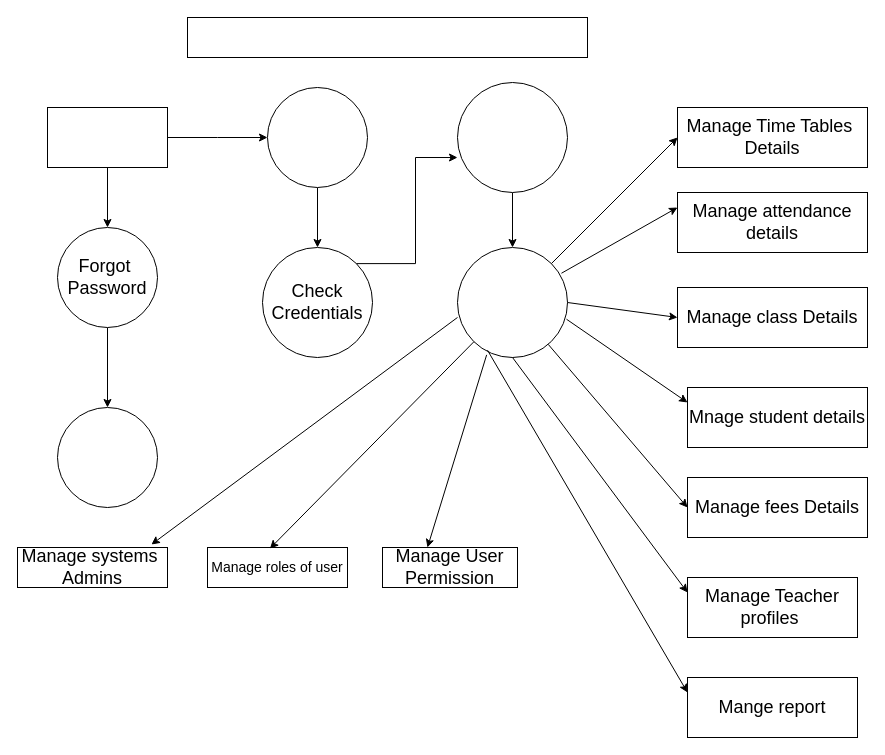
This 885x755 diagram has some shape labels left out. The centre of each missing label's shape, as x and y in pixels:
Admin: the point at 107,137
check Roles of Access: the point at 512,137
Login to System: the point at 317,137
Manage Modules: the point at 512,302
Send Email to User: the point at 107,457
Student Information Sysytem: the point at 387,37
